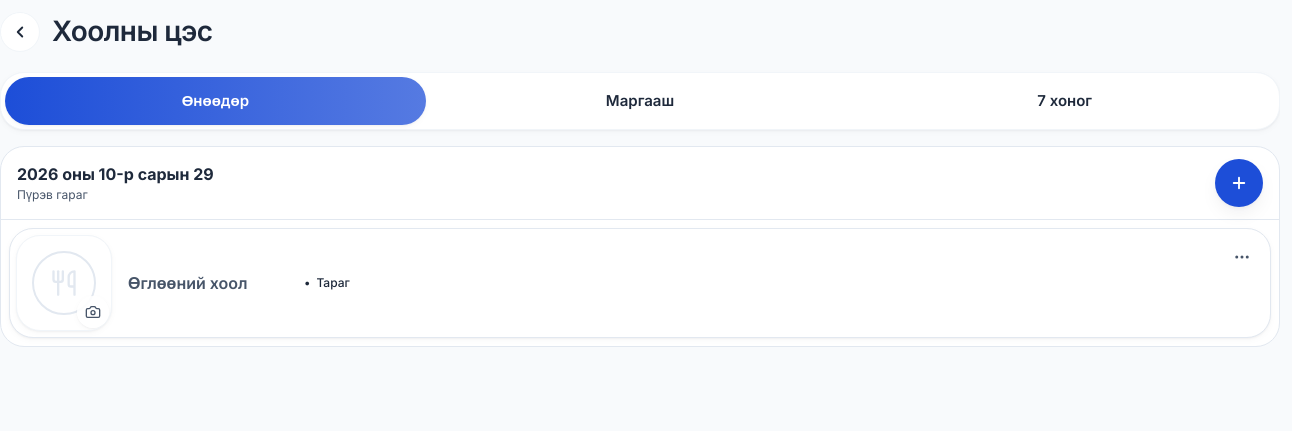
Test: the menu as a spreadsheet › offers a cook the Excel import from the week
Click the tab "7 хоног".
click(1065, 101)  # box [854,77,1275,125]
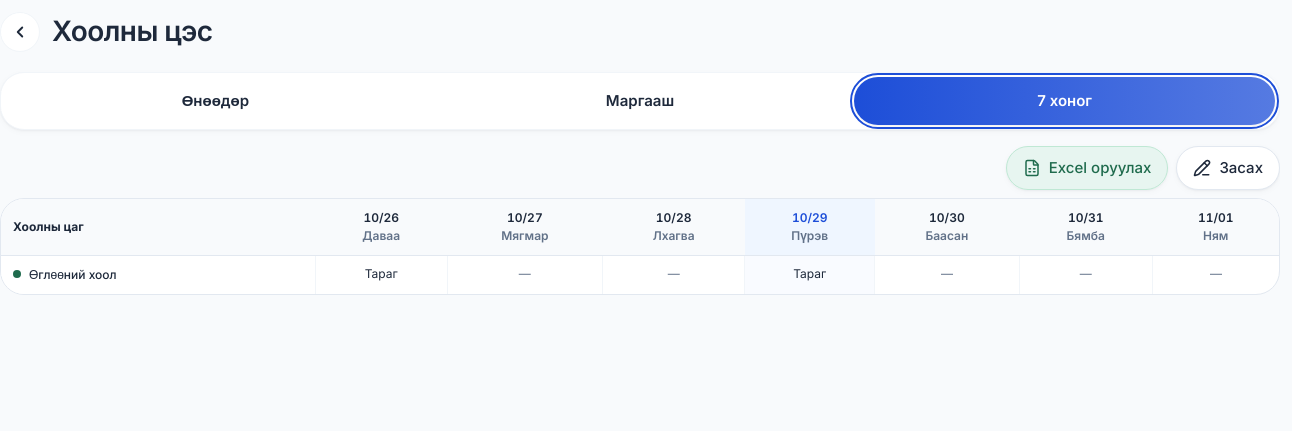
Click the button "Excel оруулах".
click(1087, 168)  # box [1006,146,1168,190]
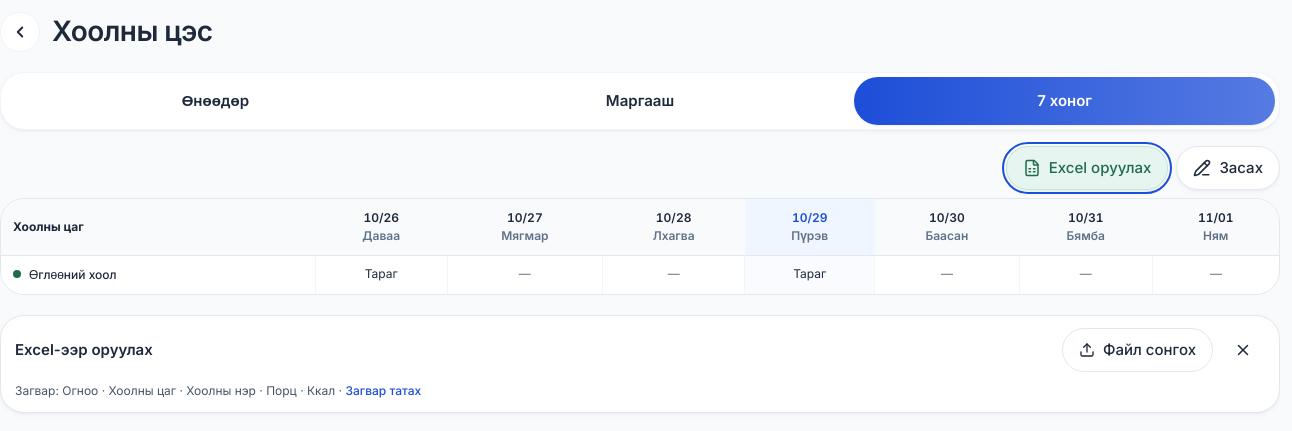
Expected: the heading "Excel-ээр оруулах" is shown, [15,340,153,359]
